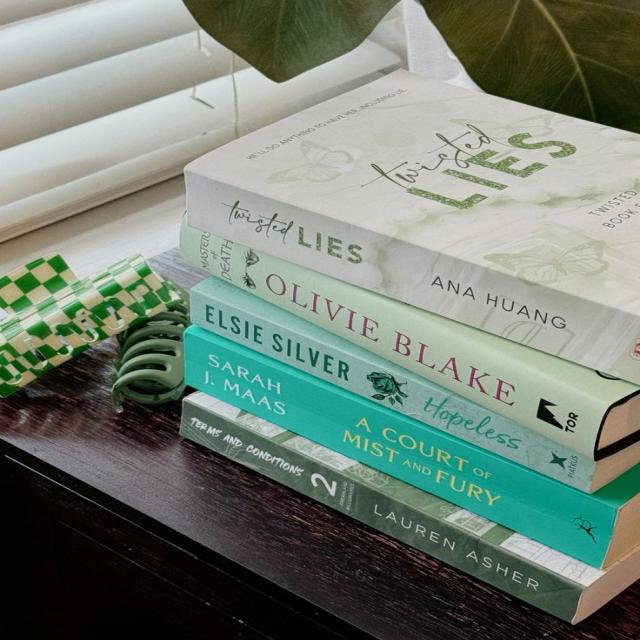book: (182, 328, 618, 572), (186, 169, 640, 386), (182, 224, 602, 458), (177, 400, 586, 623), (193, 287, 589, 492)
